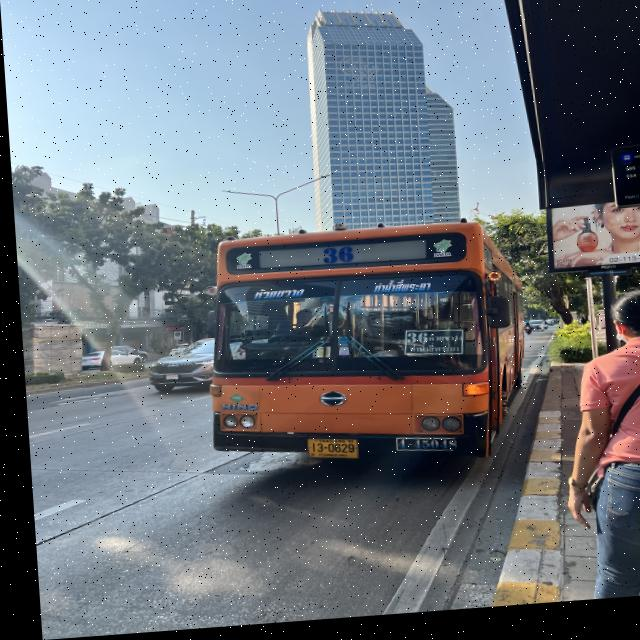BMTA-bus: (204, 229, 519, 468)
Bus Line Number: (312, 246, 356, 273)
Bus Side Number: (387, 443, 453, 460)
Destination Sign: (397, 336, 461, 365)
